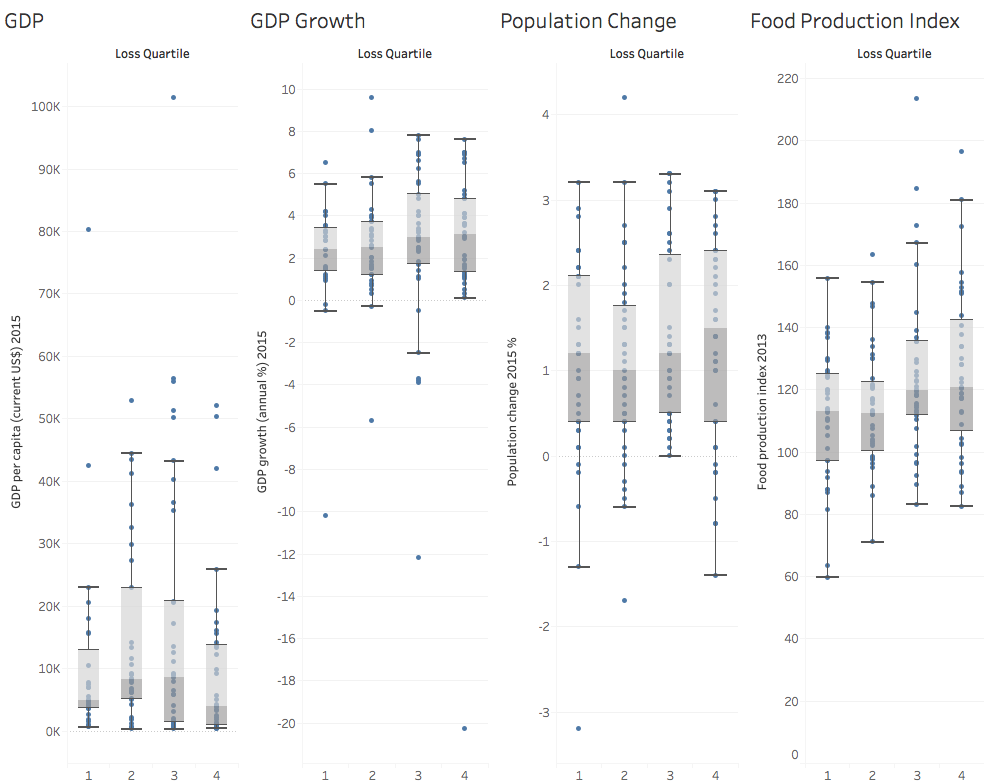

Layout of this report page (visuals, bound fields, positions):
{"tool":"tableau","page":{"name":"Dashboard 1","canvas":[1000,800],"ordinal":0},"visuals":[{"type":"worksheet","title":"gdp","mark":"Circle","rows":["GDP per capita (current US$) 2015"],"cols":["loss_quartile"],"box":[0,0,250,800]},{"type":"worksheet","title":"gdp growth","mark":"Circle","rows":["GDP growth (annual %) 2015"],"cols":["loss_quartile"],"box":[250,0,250,800]},{"type":"worksheet","title":"population","mark":"Circle","rows":["Population change 2015 %"],"cols":["loss_quartile"],"box":[500,0,250,800]},{"type":"worksheet","title":"food","mark":"Circle","rows":["Food production index 2013"],"cols":["loss_quartile"],"box":[750,0,250,800]}]}

Visuals, with their boxes in screenshot pixels (x1, y1, x2, y2), scaled from the page's 1000x800 canvas onto the 984x784 screenshot:
"gdp" worksheet (Circle marks): [x1=0, y1=0, x2=246, y2=783]
"gdp growth" worksheet (Circle marks): [x1=246, y1=0, x2=492, y2=783]
"population" worksheet (Circle marks): [x1=492, y1=0, x2=738, y2=783]
"food" worksheet (Circle marks): [x1=738, y1=0, x2=983, y2=783]
